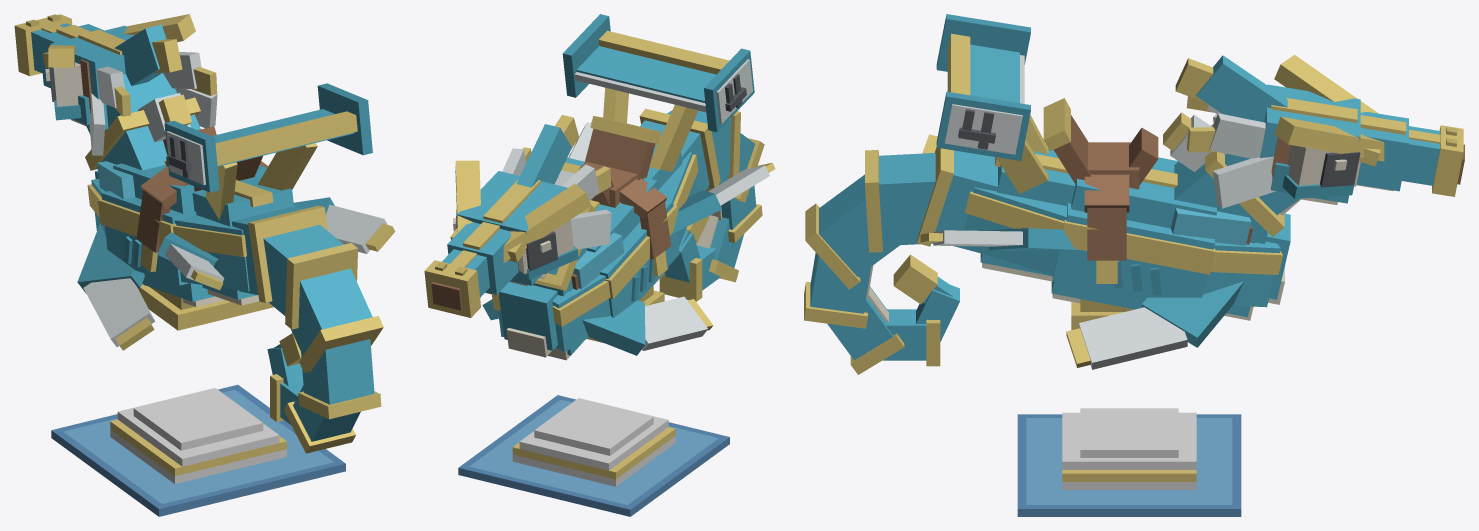
Rendered from SeahorseRocker4.glb.
The picture shows the model from 3 angles, left to right: view 1: azimuth 30°, elevation 25°; view 2: azimuth 150°, elevation 25°; view 3: azimuth 270°, elevation 25°; orthographic projection. The views are drawn at different scales.
Parts seen in each view (by area): view 1: Stand, Body, Head, Fan, Neck, T3, T2, FinL, T4, T1, Fin2R, T5 (+4 smaller); view 2: Body, Head, Stand, Fan, FinL, Fin2L, T1, T5, T6, T2, T4, Neck (+3 smaller); view 3: Body, Head, Stand, Fan, FinR, T2, Neck, T3, T1, T4, Fin2R, T5 (+3 smaller).
Boxes of the visible parts, bbox=[...] form: Stand: bbox=[51, 384, 345, 516]; Body: bbox=[87, 126, 296, 330]; Head: bbox=[14, 14, 217, 155]; Fan: bbox=[164, 83, 372, 219]; Neck: bbox=[85, 73, 200, 170]; T3: bbox=[291, 268, 383, 372]; T2: bbox=[263, 225, 357, 329]; FinL: bbox=[77, 223, 155, 350]; T4: bbox=[298, 339, 381, 419]; T1: bbox=[232, 205, 327, 302]; Fin2R: bbox=[293, 197, 395, 253]; T5: bbox=[284, 385, 360, 453]; Body: bbox=[492, 116, 698, 360]; Head: bbox=[424, 115, 611, 317]; Stand: bbox=[458, 395, 729, 516]; Fan: bbox=[562, 14, 754, 171]; FinL: bbox=[582, 296, 713, 355]; Fin2L: bbox=[672, 162, 775, 233]; T1: bbox=[639, 108, 720, 192]; T5: bbox=[696, 215, 743, 282]; T6: bbox=[659, 245, 720, 301]; T2: bbox=[667, 110, 740, 188]; T4: bbox=[705, 185, 762, 242]; Neck: bbox=[534, 162, 596, 291]; Body: bbox=[960, 98, 1290, 330]; Head: bbox=[1175, 54, 1464, 208]; Stand: bbox=[1017, 408, 1241, 516]; Fan: bbox=[936, 14, 1048, 193]; FinR: bbox=[1066, 281, 1243, 369]; T2: bbox=[865, 149, 935, 252]; Neck: bbox=[1163, 112, 1300, 243]; T3: bbox=[805, 174, 899, 289]; T1: bbox=[917, 147, 997, 253]; T4: bbox=[804, 253, 873, 328]; Fin2R: bbox=[920, 228, 1079, 250]; T5: bbox=[827, 286, 904, 374].
Bounding box in the file's own units: 11.34 × 20.42 × 29.51.
